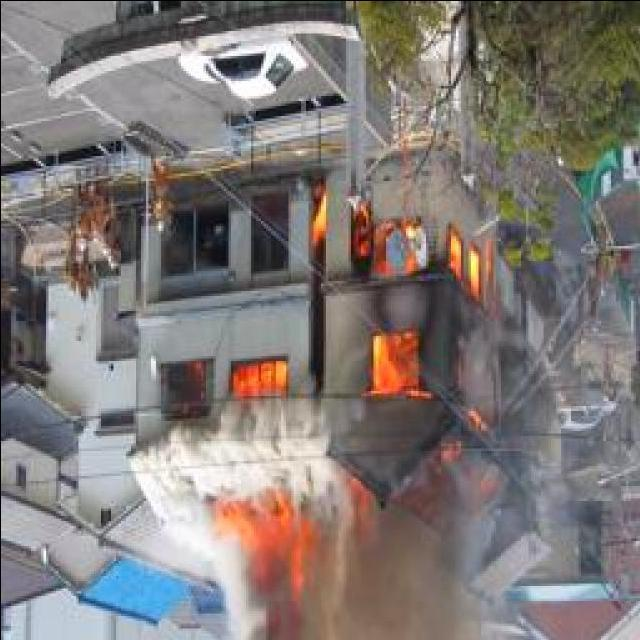Fire: (308, 185, 502, 479), (208, 492, 306, 580), (195, 350, 282, 400)
